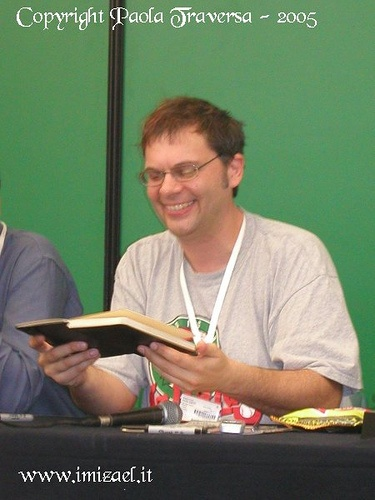head: (141, 98, 249, 243)
person: (7, 87, 364, 426), (0, 123, 85, 428)
